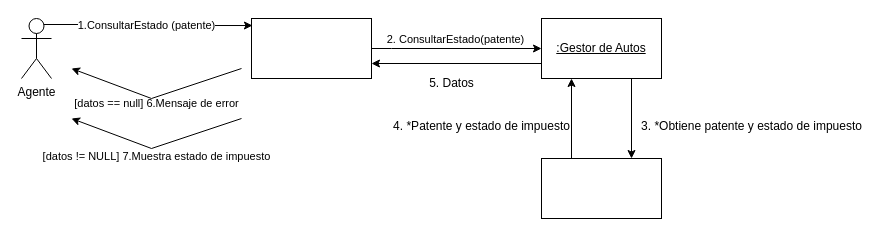
This 888x236 diagram has some shape labels left out. The shapes that lost their labels are listed below. From the top down, each one's centre as x and y in pixels, then its label:
At point (311, 48): ":PantallaDeConsultas".
At point (601, 188): ":Auto".
